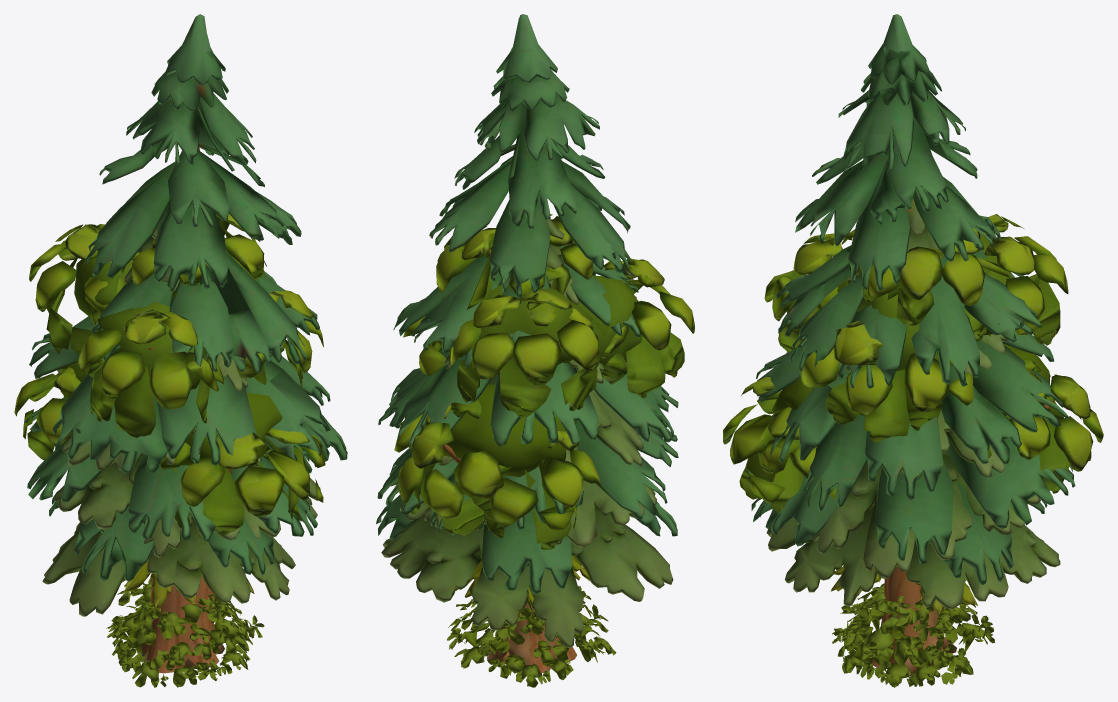
File: forest-kit.glb
3 renders of one model, left to right at view 1: azimuth 30°, elevation 25°; view 2: azimuth 150°, elevation 25°; view 3: azimuth 270°, elevation 25°, orthographic. The views are drawn at different scales.
Visible parts, largest first — view 1: Eco_tall-pine-a, Eco_round-tree-a, Eco_normal-pine-b, Eco_bush-a, Eco_young-tree-b; view 2: Eco_tall-pine-a, Eco_round-tree-a, Eco_normal-pine-b, Eco_bush-a, Eco_young-tree-b; view 3: Eco_tall-pine-a, Eco_round-tree-a, Eco_normal-pine-b, Eco_bush-a.
Part boxes in pixels (bbox=[...]): Eco_tall-pine-a: bbox=[24, 14, 347, 673]; Eco_round-tree-a: bbox=[14, 213, 325, 642]; Eco_normal-pine-b: bbox=[42, 211, 320, 668]; Eco_bush-a: bbox=[106, 577, 264, 687]; Eco_young-tree-b: bbox=[122, 559, 254, 611]; Eco_tall-pine-a: bbox=[376, 14, 678, 672]; Eco_round-tree-a: bbox=[394, 214, 694, 664]; Eco_normal-pine-b: bbox=[381, 219, 673, 665]; Eco_bush-a: bbox=[447, 586, 616, 687]; Eco_young-tree-b: bbox=[455, 555, 590, 623]; Eco_tall-pine-a: bbox=[751, 14, 1075, 669]; Eco_round-tree-a: bbox=[723, 214, 1103, 676]; Eco_normal-pine-b: bbox=[766, 198, 1060, 674]; Eco_bush-a: bbox=[832, 578, 994, 687].
Size of the model in its own units: 3.65 by 8.01 by 4.25.
6 materials, 6 textured.
